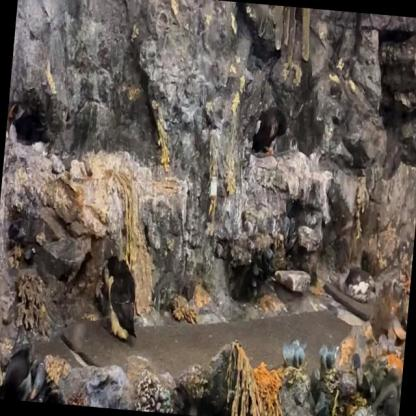puffin: (95, 252, 144, 345), (0, 346, 44, 402), (250, 103, 289, 157), (7, 100, 48, 143)
